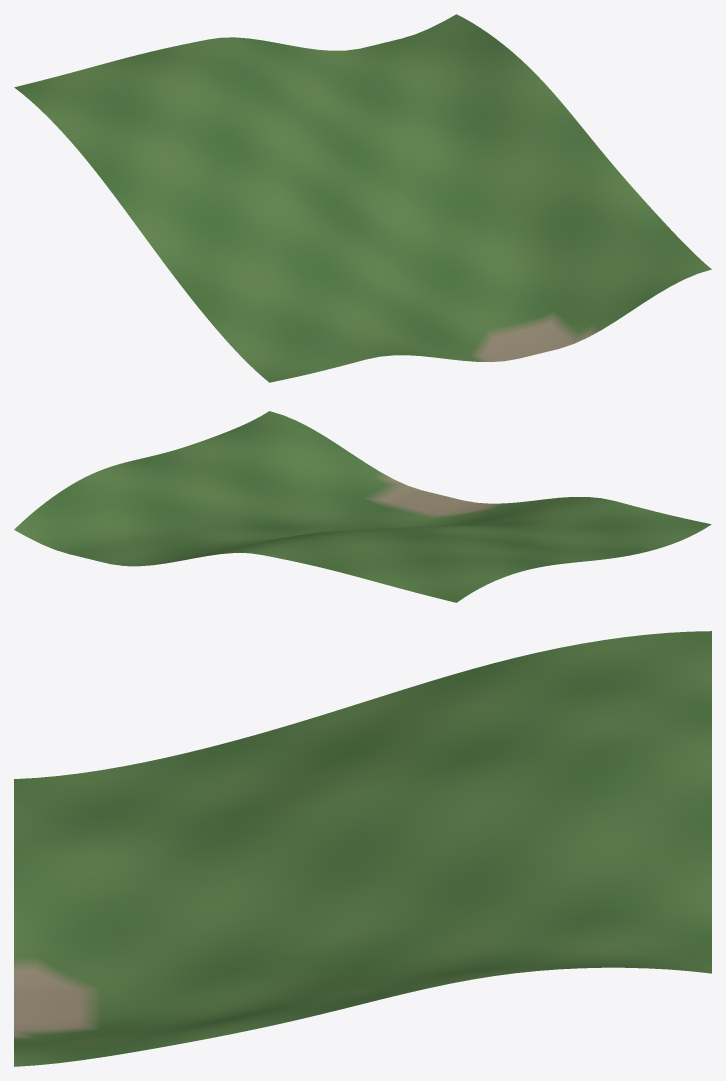
File: chunk_4_0.glb
3 views of the same model, one above another, from view 1: azimuth 30°, elevation 25°; view 2: azimuth 150°, elevation 25°; view 3: azimuth 270°, elevation 25° (orthographic). The views are drawn at different scales.
Bounding box in the file's own units: 512 × 163 × 512.
